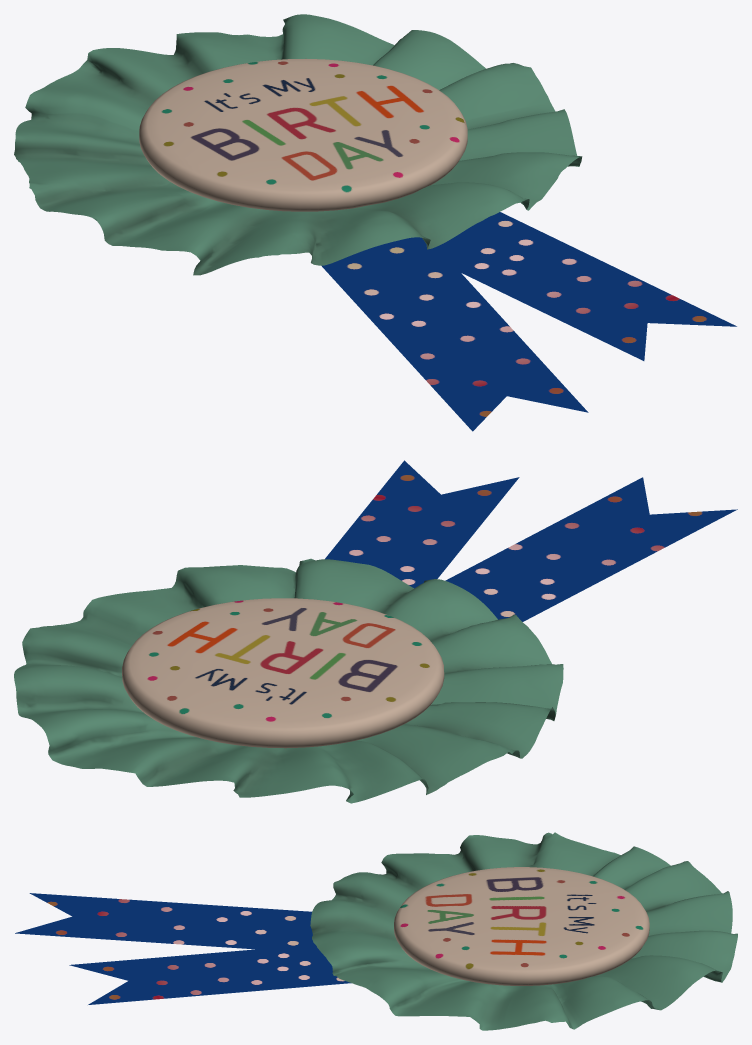
File: birthday_ribbon.glb
The picture shows the model from 3 angles, top to bottom: view 1: azimuth 30°, elevation 25°; view 2: azimuth 150°, elevation 25°; view 3: azimuth 270°, elevation 25°; orthographic projection. The views are drawn at different scales.
Parts seen in each view (by area): view 1: Object_2; view 2: Object_2; view 3: Object_2.
Part boxes in pixels (x1,y1,x2,y2): Object_2: [14, 14, 736, 431]; Object_2: [14, 460, 737, 803]; Object_2: [15, 832, 737, 1030].
Size of the model in its own units: 3.31 by 0.3895 by 5.35.
1 material, 1 textured.
